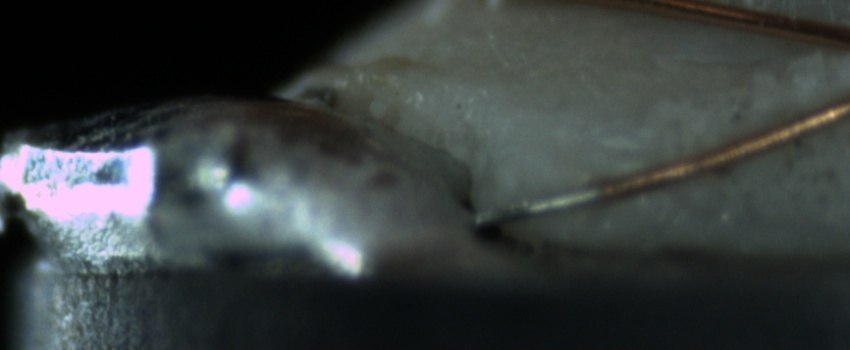TS: (469, 182, 602, 224)
